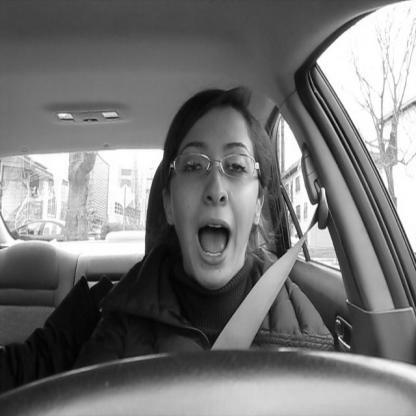seatbelt: (150, 77, 298, 411)
